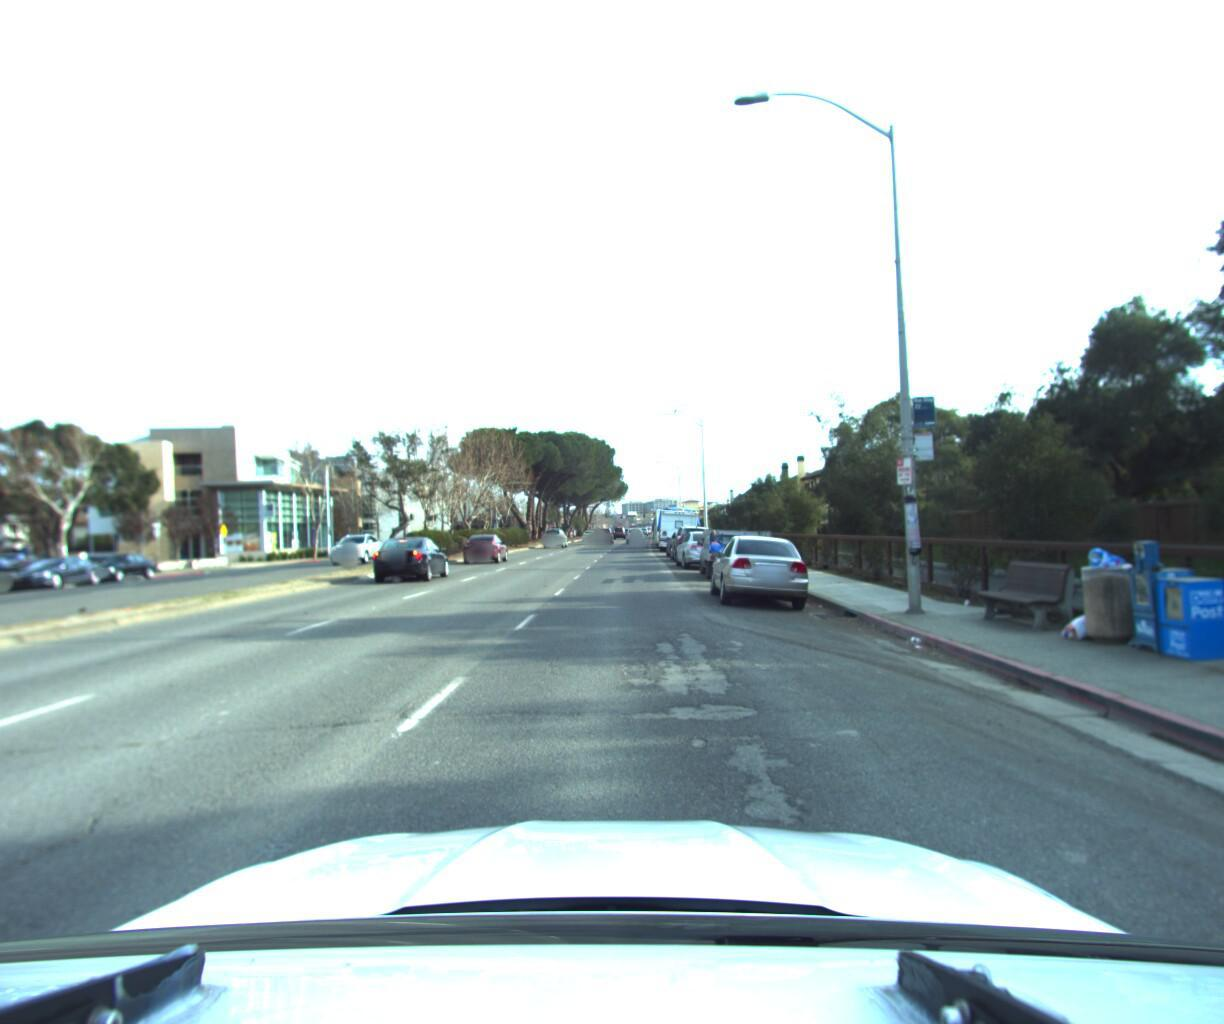car: (705, 527, 811, 609), (697, 520, 780, 584), (370, 529, 453, 581), (6, 553, 109, 593), (670, 526, 735, 570), (79, 552, 160, 585), (667, 520, 717, 562), (325, 531, 386, 563), (462, 526, 510, 559), (540, 525, 568, 546), (596, 524, 615, 542), (624, 524, 644, 542), (0, 553, 3, 609)
other_vehicle: (649, 492, 703, 548), (655, 501, 703, 550)
